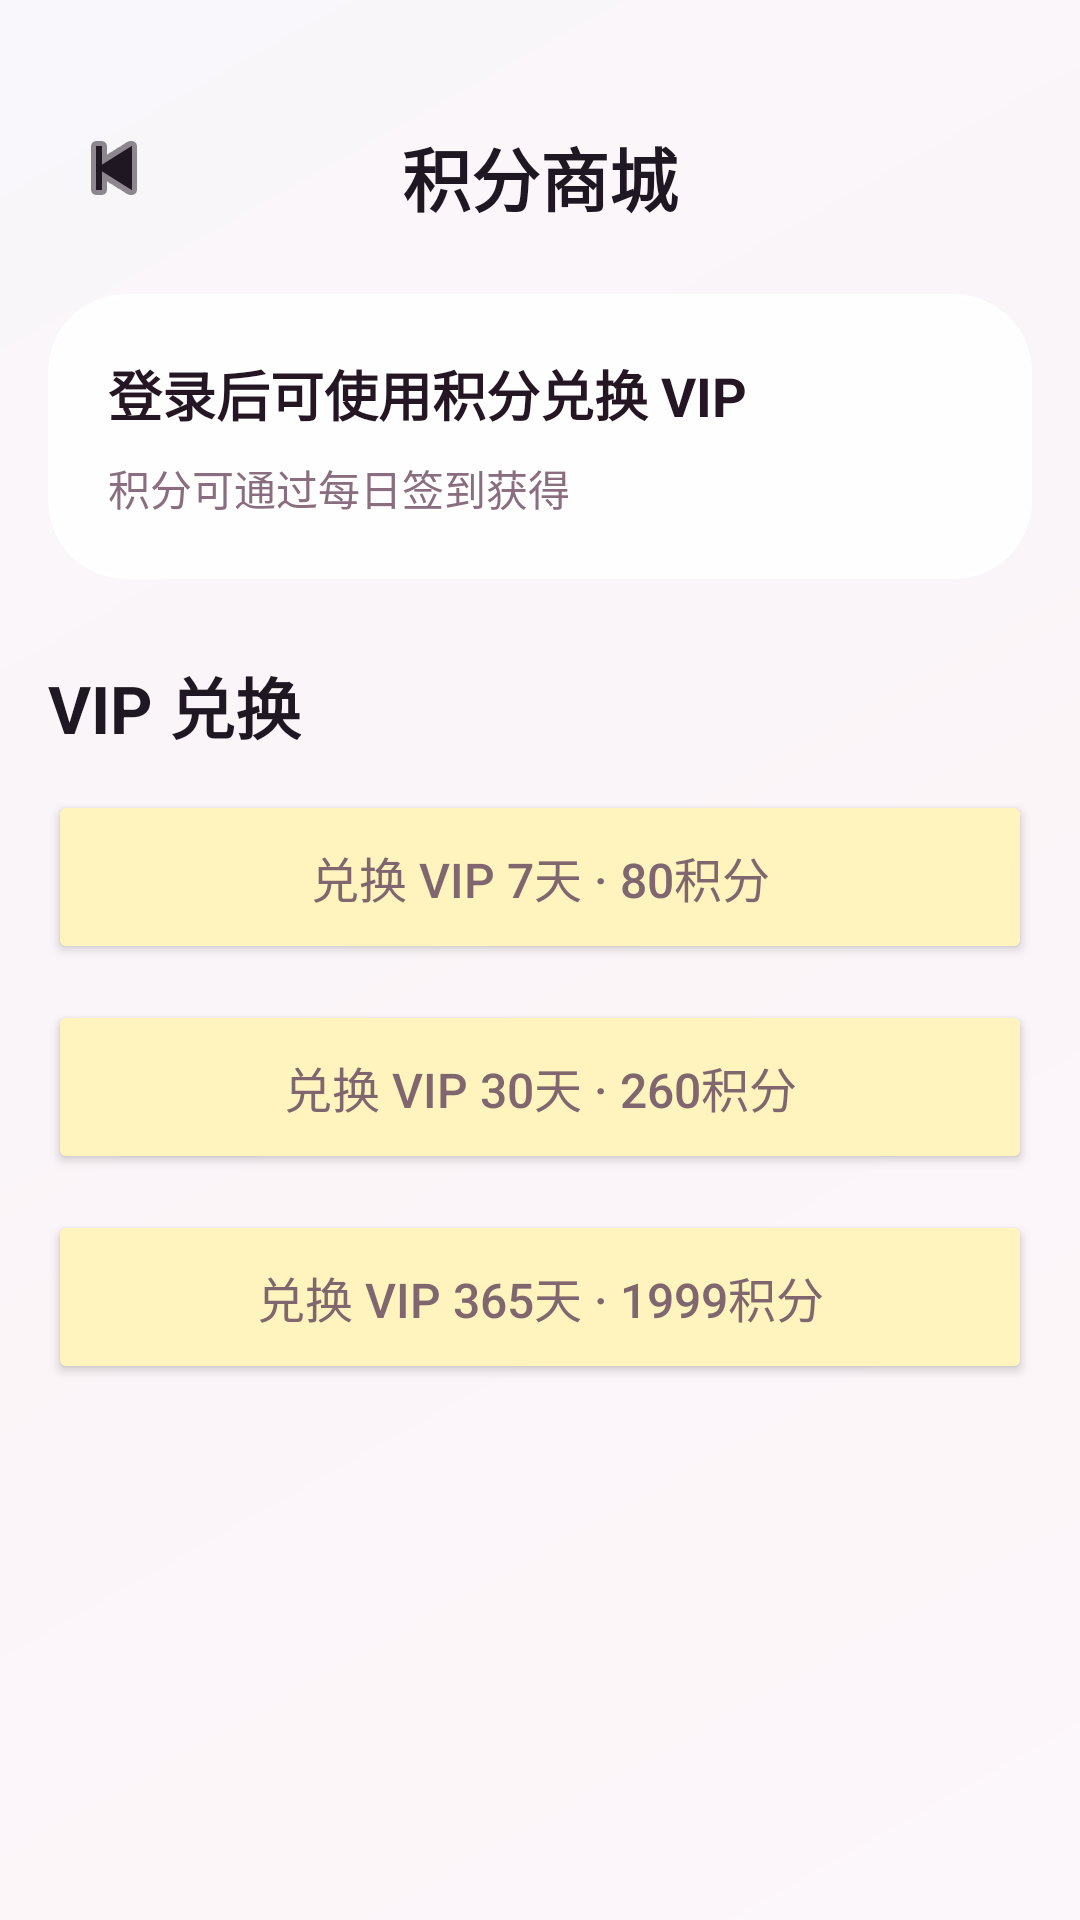

Icon click points for this 1080px×1920px phone screenshot, format (x=x, y=y):
返回: (x=114, y=168)
